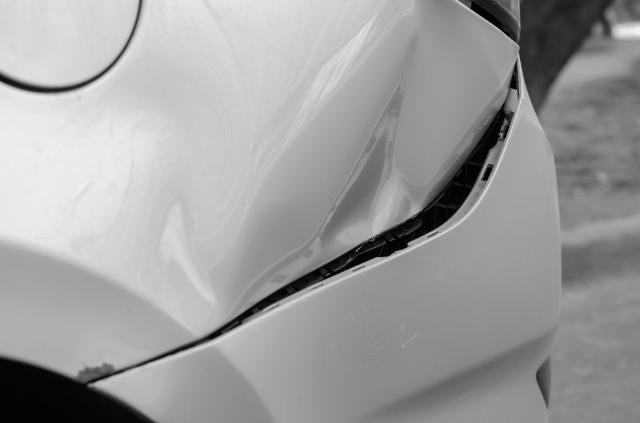Fender: (207, 7, 438, 268)
